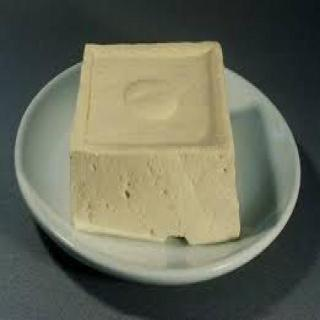Tahu: (54, 36, 264, 250)
